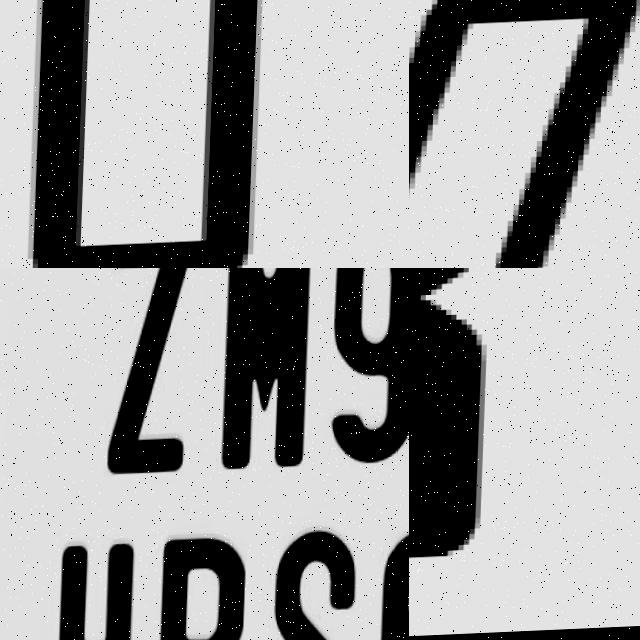0: (409, 0, 640, 268)
8: (409, 268, 497, 568)
9: (329, 268, 409, 474)
H: (55, 542, 135, 640)
M: (220, 268, 315, 479)
R: (158, 537, 256, 640)
S: (268, 531, 361, 640)
U: (25, 0, 271, 268)
Z: (106, 268, 193, 474)
